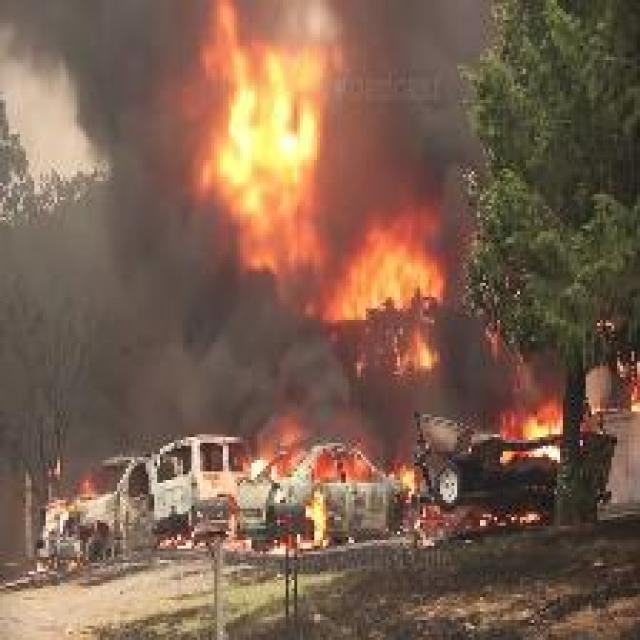Fire: (184, 0, 449, 371), (244, 416, 422, 502), (498, 402, 573, 469), (293, 486, 333, 552), (82, 473, 105, 498)
